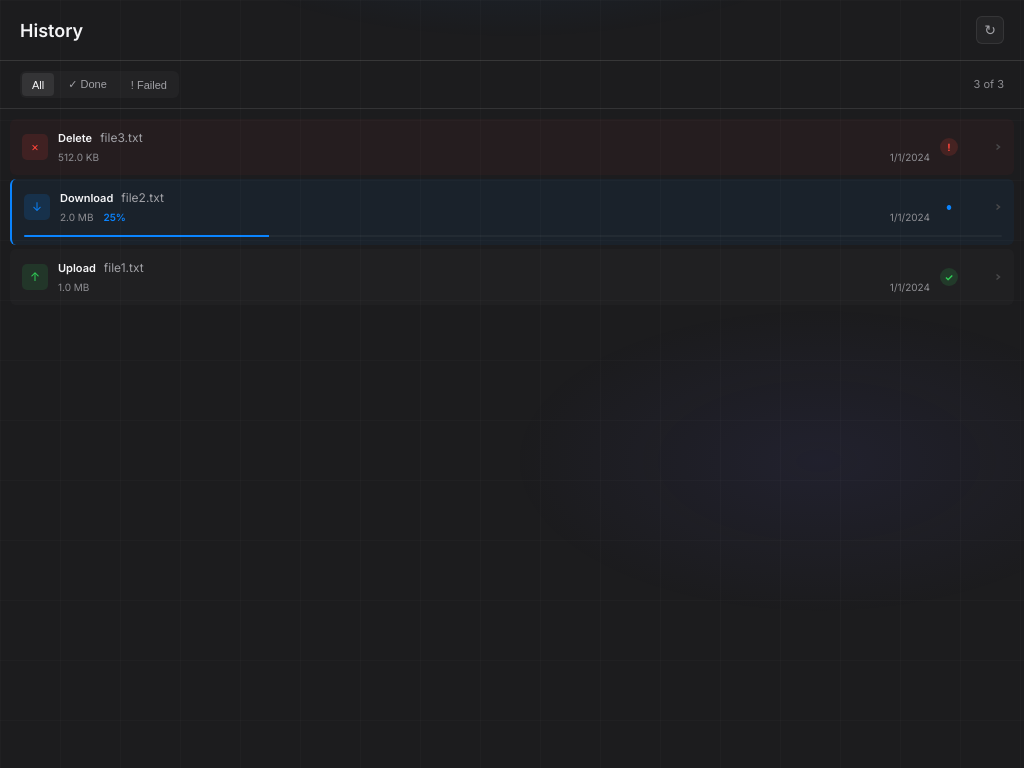
Test: OperationHistory › Filtering › should filter to show only failed operations
Expected: the text "file1.txt" is shown, [104, 260, 144, 275]
Note: Click on Failed filter
Click the button "! Failed".
click(149, 84)  # box [121, 73, 177, 96]
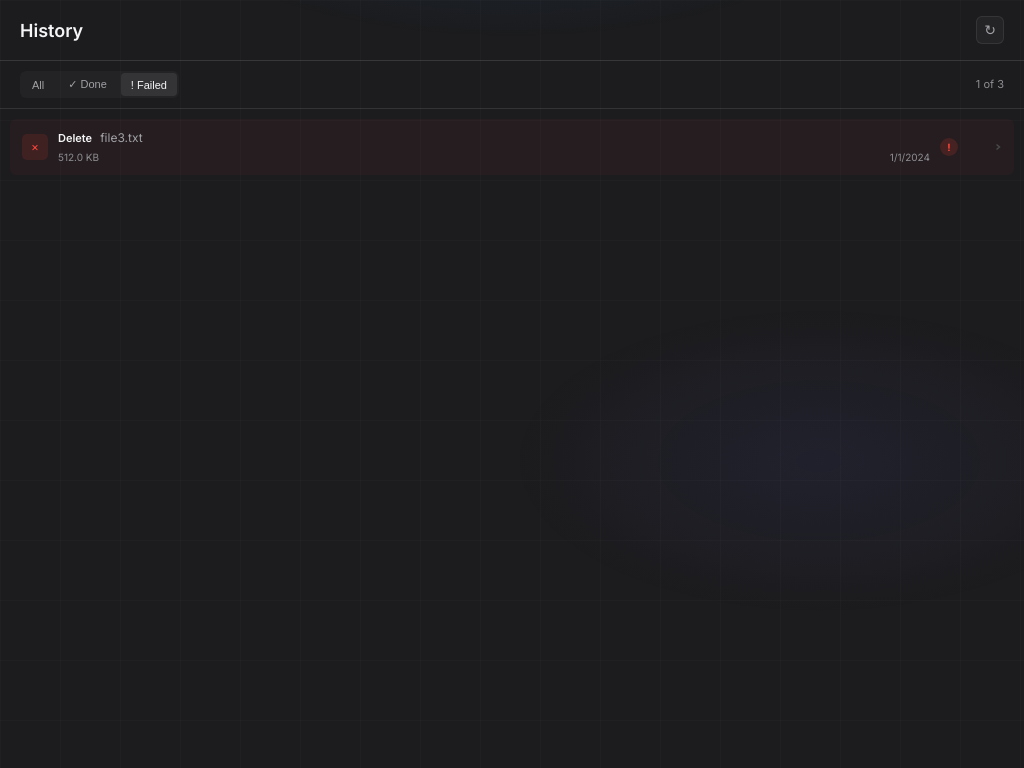
Expected: the text "file3.txt" is shown, [100, 130, 143, 145]
Result: the text "file1.txt" is gone
